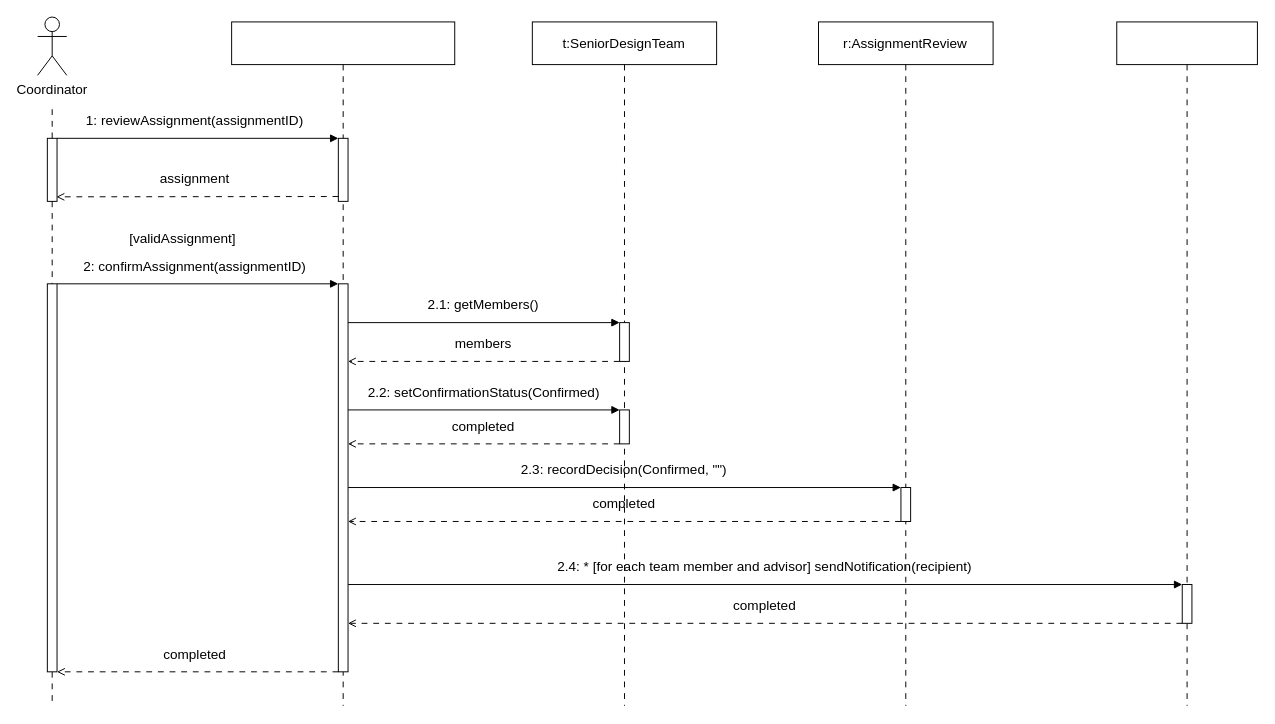
This 1275x724 diagram has some shape labels left out. The centre of each missing label's shape, as x and y in pixels:
"c:SeniorDesignCoordinator" belongs at pixel 343 43.
"n:Notification" belongs at pixel 1186 43.
